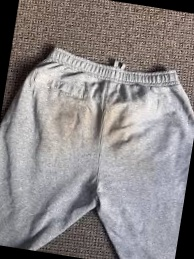earth: (107, 106, 131, 143), (66, 106, 78, 123)
